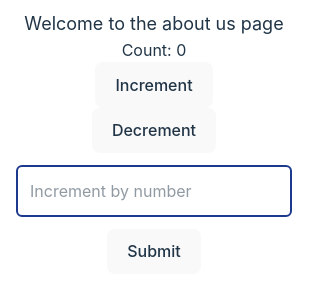
it: About › should increment by amount when using an input
Type "5" into the number field with placeholder "Increment by number" at (154, 191), box [16,165,292,217]
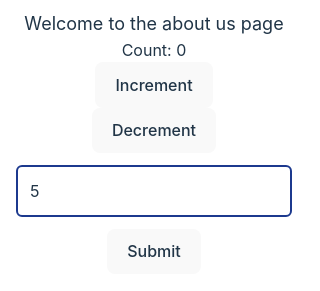
Click the button "Submit" at (154, 251), box [107,229,201,274]
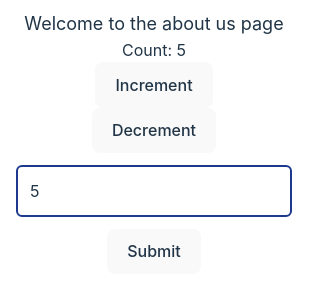
Expected: the heading with test id "count" reads "Count: 5", [122,38,186,62]
